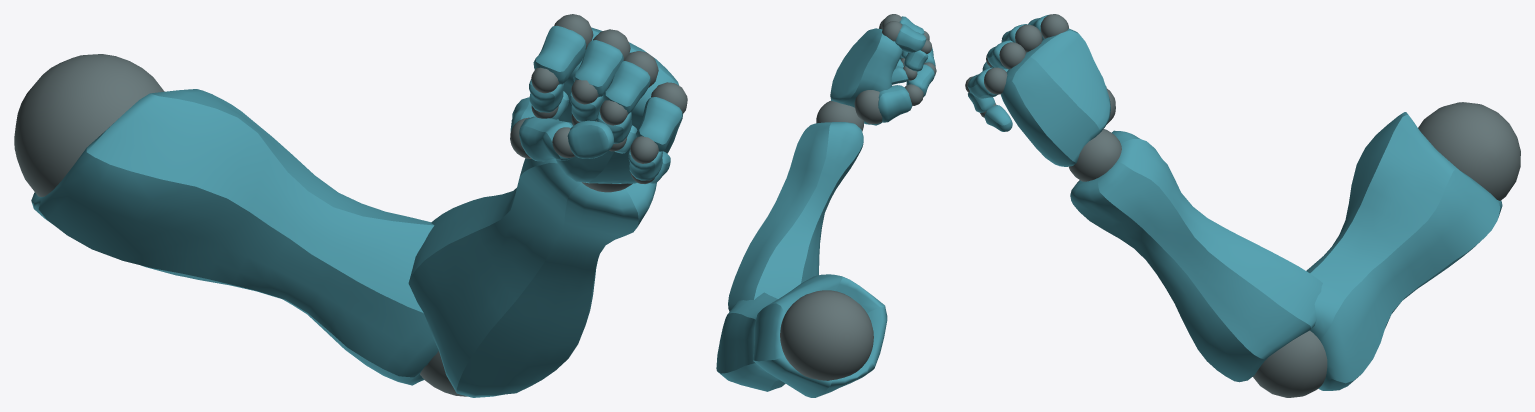
File: LeftArm.fbx
3 views of the same model, side by side, from view 1: azimuth 30°, elevation 25°; view 2: azimuth 150°, elevation 25°; view 3: azimuth 270°, elevation 25° (orthographic). The views are drawn at different scales.
Visible parts, largest first — view 1: Alpha_Joints1; view 2: Alpha_Joints1; view 3: Alpha_Joints1.
Boxes of the visible parts, left/top/right/bottom form: Alpha_Joints1: left=14, top=14, right=687, bottom=397; Alpha_Joints1: left=716, top=14, right=936, bottom=397; Alpha_Joints1: left=965, top=14, right=1520, bottom=397.
Bounding box in the file's own units: 29.57 × 37.08 × 52.45.
